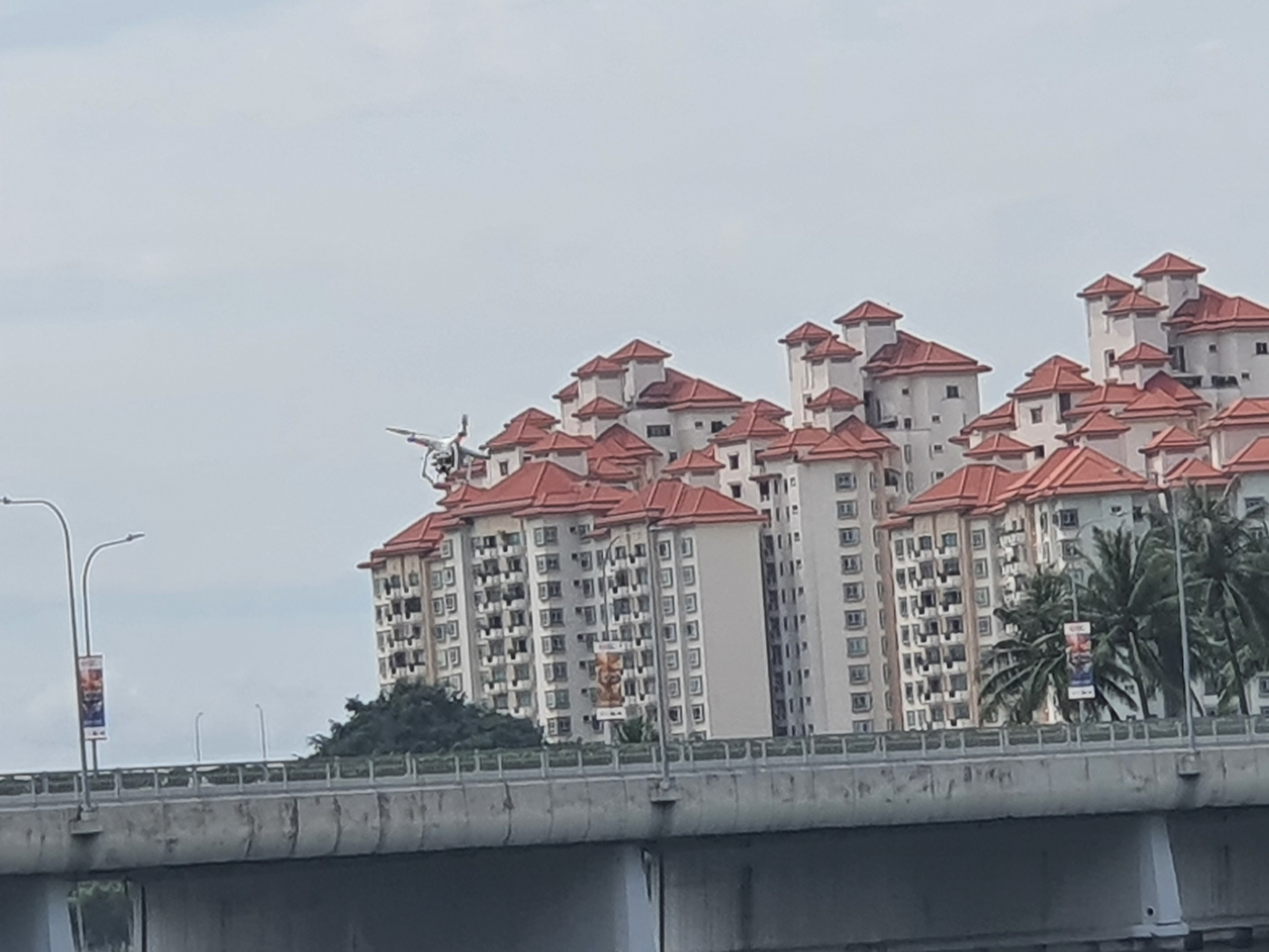drone_other: (385, 414, 496, 491)
